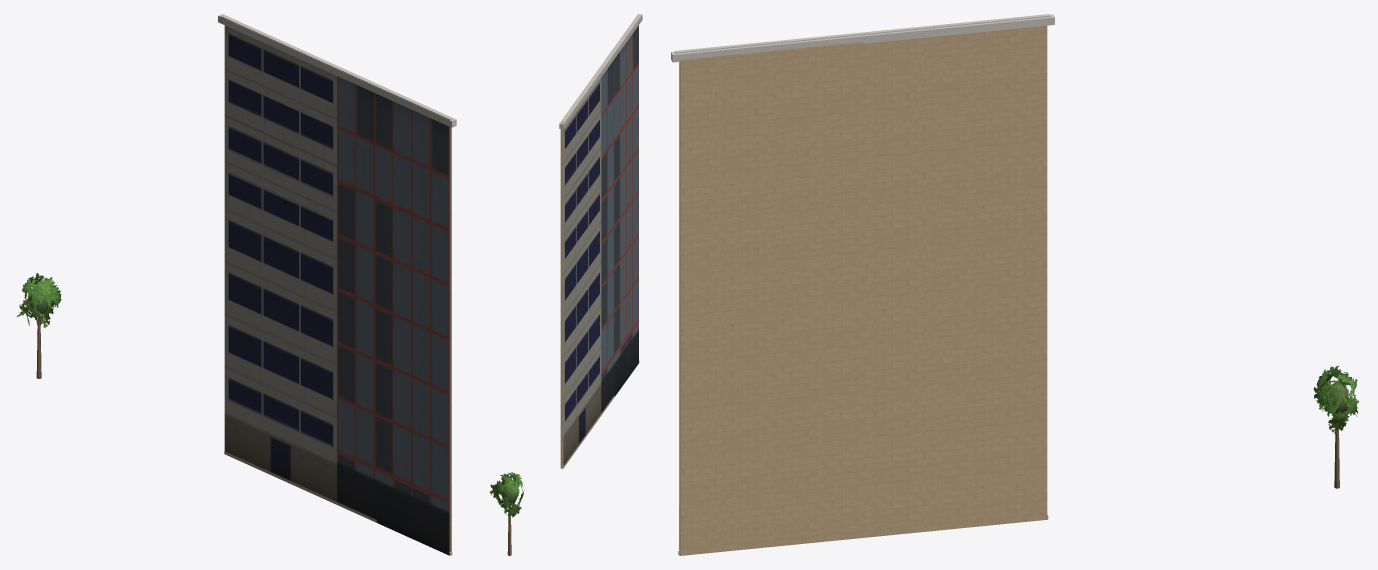
3 views of the same model, side by side, from view 1: azimuth 30°, elevation 25°; view 2: azimuth 150°, elevation 25°; view 3: azimuth 270°, elevation 25° (orthographic). The views are drawn at different scales.
Visible parts, largest first — view 1: bldg_6004025035_facade0, tree_908; view 2: bldg_6004025035_facade0, tree_908; view 3: bldg_6004025035_facade0, tree_908.
Boxes of the visible parts, x1,y1,x2,y2 form: bldg_6004025035_facade0: [218, 14, 456, 555]; tree_908: [16, 273, 61, 378]; bldg_6004025035_facade0: [559, 14, 642, 468]; tree_908: [490, 472, 524, 555]; bldg_6004025035_facade0: [671, 14, 1054, 555]; tree_908: [1313, 365, 1358, 488].
Size of the model in its own units: 9.18 by 25.95 by 32.28.
Materials: 5 (3 with a texture image).
